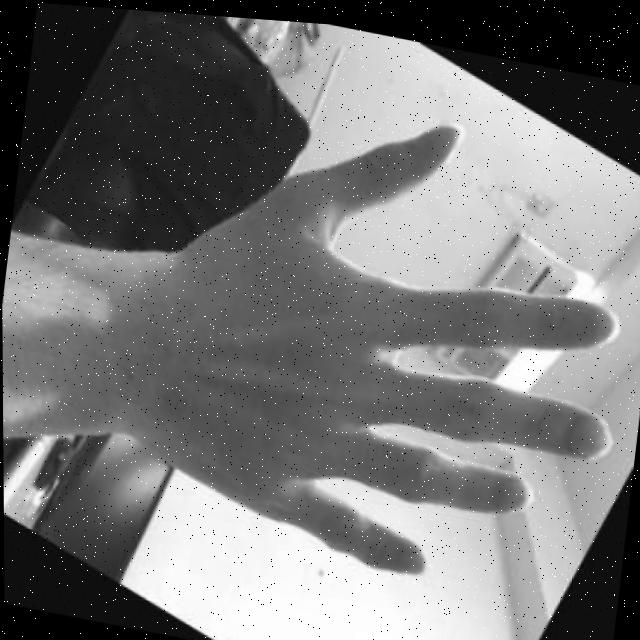hand: (118, 58, 640, 604)
